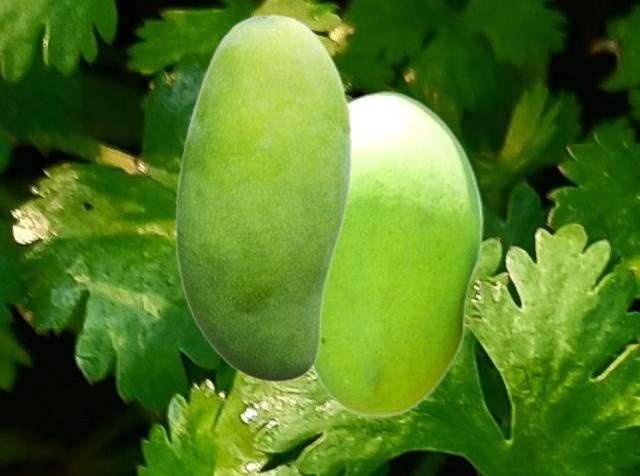green_mango: (174, 13, 352, 382), (311, 90, 482, 416)
